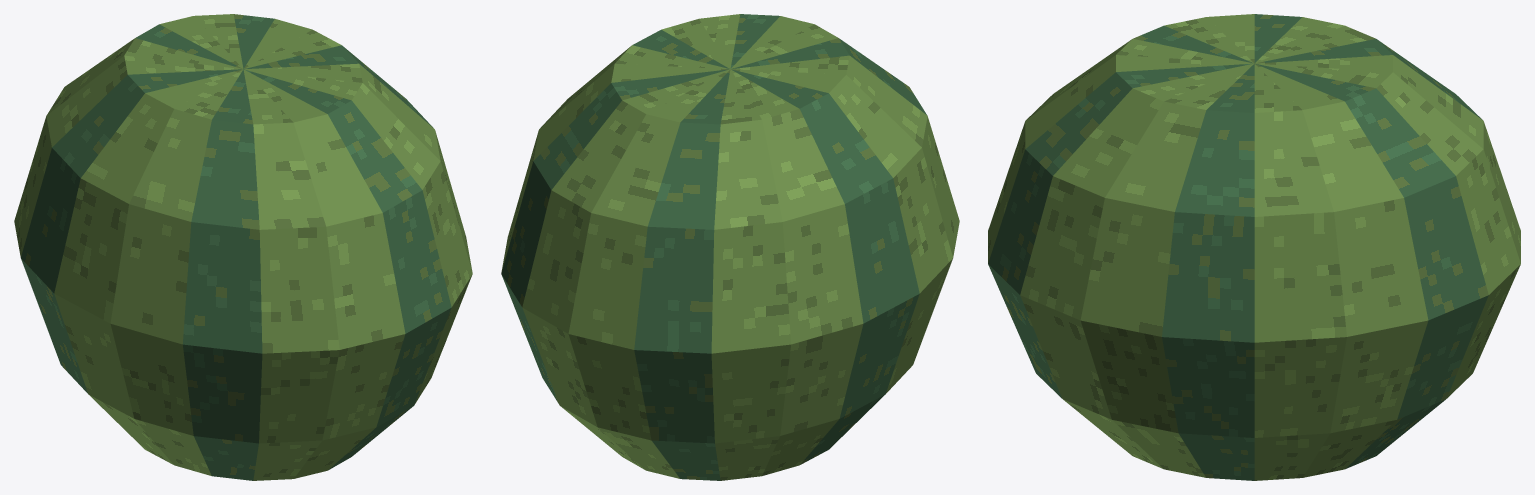
Rendered from watermelon.glb.
3 views of the same model, side by side, from view 1: azimuth 30°, elevation 25°; view 2: azimuth 150°, elevation 25°; view 3: azimuth 270°, elevation 25° (orthographic). The views are drawn at different scales.
Parts seen in each view (by area): view 1: block_striped rind; view 2: block_striped rind; view 3: block_striped rind.
Part boxes in pixels (left/top/right/bottom): block_striped rind: left=14, top=14, right=472, bottom=480; block_striped rind: left=501, top=14, right=959, bottom=480; block_striped rind: left=988, top=14, right=1520, bottom=480.
Size of the model in its own units: 0.2951 by 0.2656 by 0.3487.
1 material, 1 textured.
